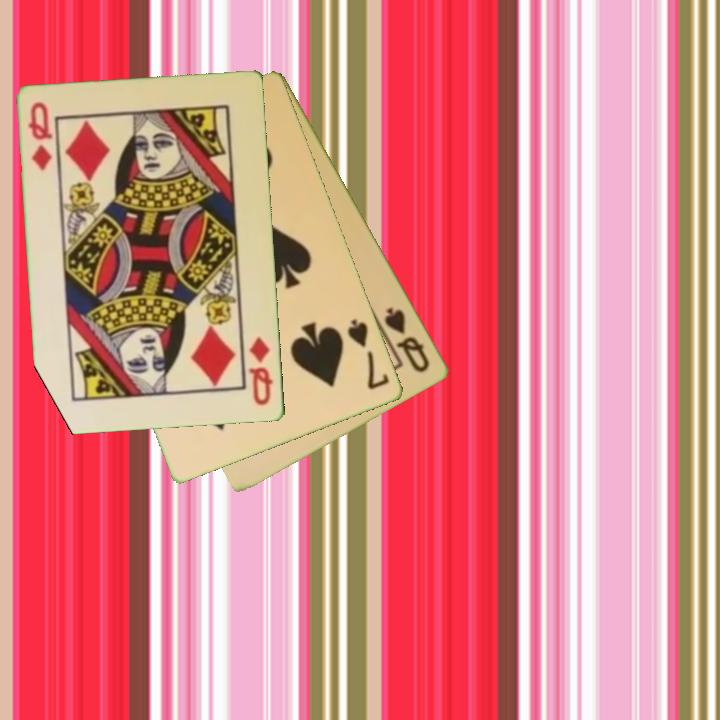7s: (344, 315, 393, 393)
Qd: (246, 333, 277, 409), (25, 99, 56, 174)
Qs: (381, 303, 433, 376)
